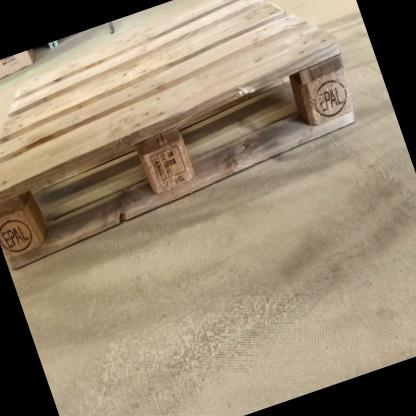BoxFace: (0, 0, 361, 277)
